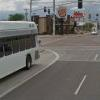Bus: (1, 16, 40, 79)
